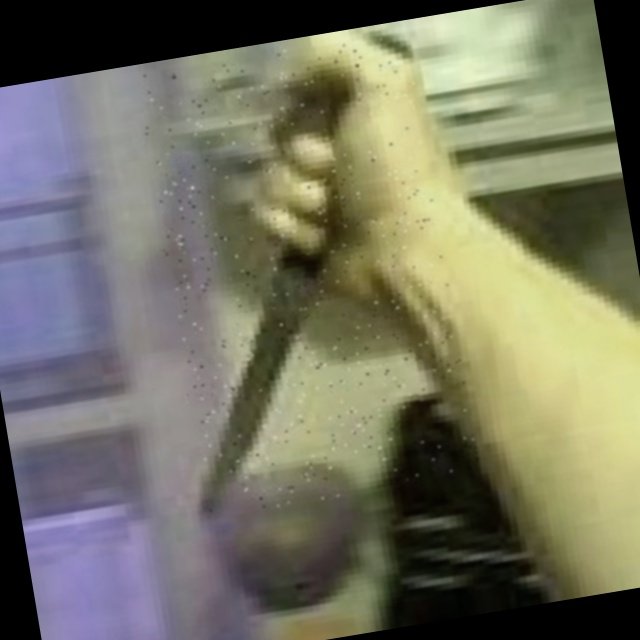Sharp-Object: (133, 30, 481, 518)
